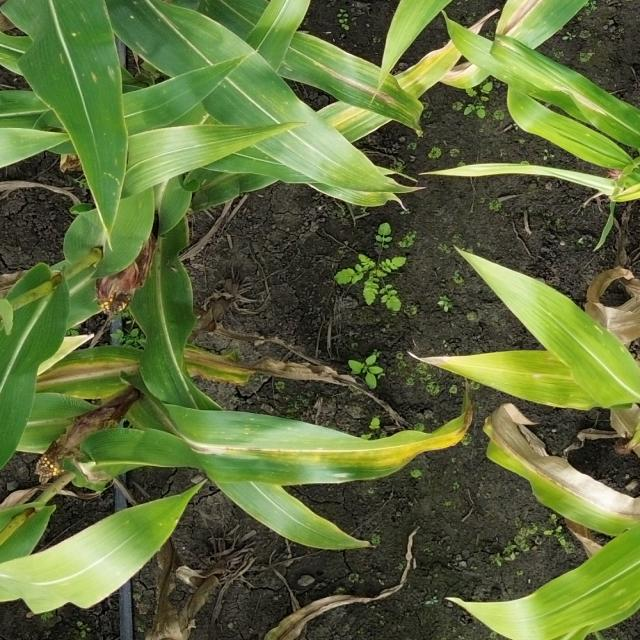gray-leaf-spot: (39, 25, 156, 222)
northern-leaf-blight: (482, 406, 640, 574), (272, 40, 462, 138), (35, 334, 268, 408), (486, 0, 610, 123)
southern-leaf-blight: (187, 411, 465, 490)
